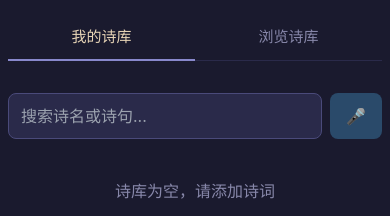
it: LibraryTab › shows corpus error message in browse tab when corpus failed
The width and height of the screenshot is (390, 216).
Click the tab "浏览诗库" at (288, 38), box [195, 16, 382, 60]
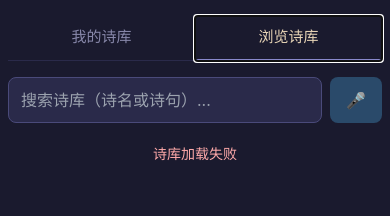
Now the text "诗库加载失败" is shown, box [153, 144, 237, 162]
